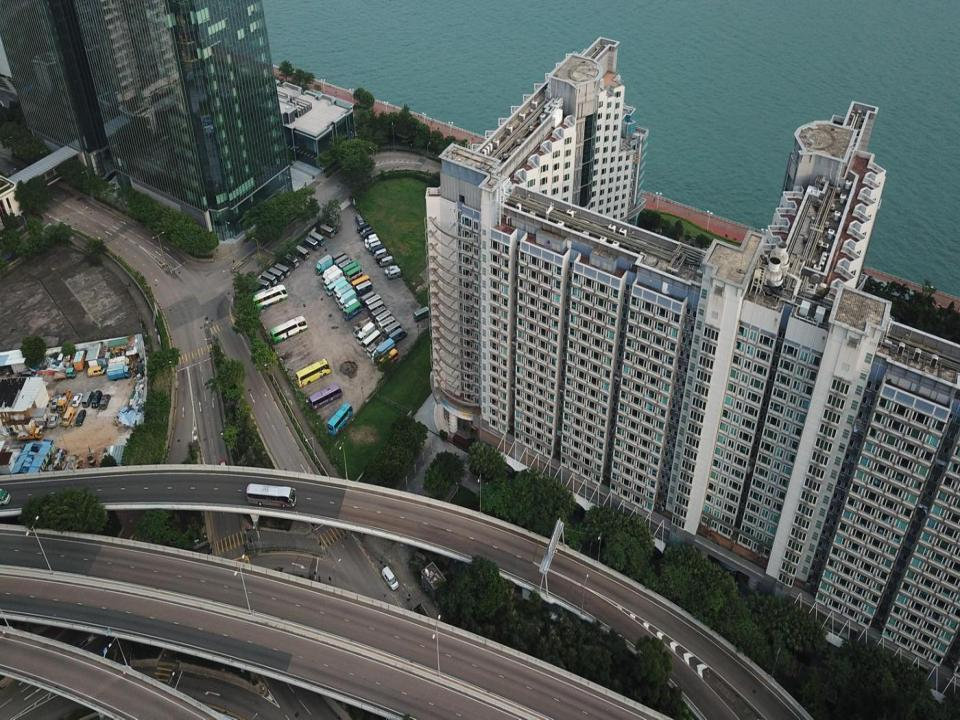bus: (245, 483, 297, 507), (269, 316, 308, 344), (296, 359, 331, 388), (251, 284, 288, 310), (309, 383, 342, 409), (328, 403, 352, 435), (361, 329, 382, 352), (378, 347, 398, 370), (326, 276, 346, 297), (344, 302, 362, 320), (383, 321, 401, 339), (378, 315, 396, 333), (370, 306, 388, 324), (342, 260, 359, 279), (375, 310, 392, 328), (330, 250, 348, 267), (359, 290, 376, 308), (365, 293, 382, 311), (368, 299, 385, 317), (352, 275, 371, 291), (346, 264, 362, 282), (309, 231, 325, 247), (260, 271, 276, 287), (334, 254, 350, 270), (356, 280, 372, 296), (284, 253, 299, 269), (274, 263, 290, 278), (338, 259, 355, 273), (414, 306, 428, 322), (268, 267, 284, 281), (254, 278, 271, 291), (294, 245, 309, 259), (320, 224, 334, 238), (305, 236, 318, 250), (0, 489, 11, 505)
car: (76, 409, 86, 427), (71, 393, 83, 406), (49, 413, 59, 428), (384, 265, 398, 275), (219, 458, 227, 474), (51, 396, 61, 408)
truck: (372, 337, 395, 366), (352, 316, 373, 338), (108, 355, 133, 373), (324, 268, 344, 290), (356, 322, 376, 344), (366, 336, 386, 358), (107, 363, 131, 380), (338, 288, 356, 310), (17, 426, 44, 440), (314, 254, 332, 275), (57, 388, 72, 413), (335, 284, 353, 304), (322, 264, 338, 284), (54, 367, 76, 381), (73, 348, 86, 371), (333, 280, 349, 298), (342, 297, 358, 313)
van: (381, 565, 398, 589), (388, 327, 406, 345), (62, 406, 75, 425), (90, 390, 103, 409), (81, 390, 95, 407), (88, 366, 105, 378), (21, 370, 39, 380), (365, 236, 378, 249), (99, 394, 110, 409), (379, 255, 392, 267), (374, 248, 386, 260), (326, 222, 338, 234), (368, 241, 381, 252), (357, 222, 369, 233), (372, 244, 383, 256), (376, 253, 388, 264), (364, 233, 377, 243), (362, 230, 374, 240), (388, 268, 400, 278), (359, 227, 372, 236), (356, 214, 364, 227)
